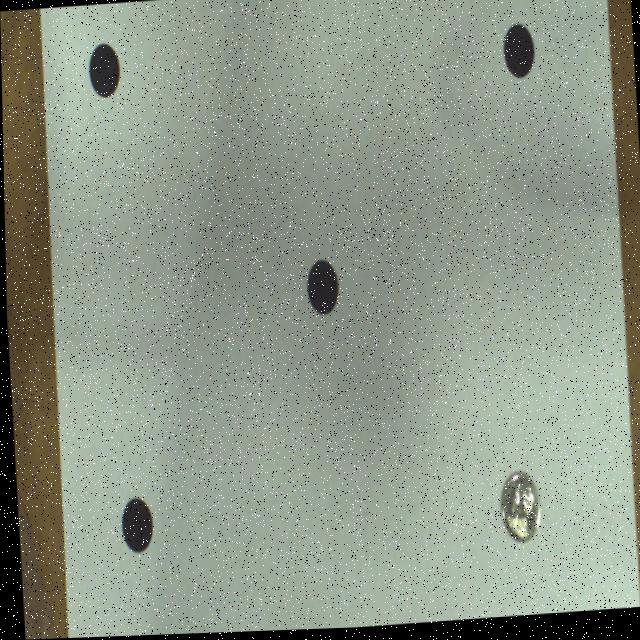head1bath: (498, 476, 537, 545)
space: (118, 499, 151, 553), (502, 28, 534, 83), (89, 44, 119, 98), (306, 263, 336, 317)
